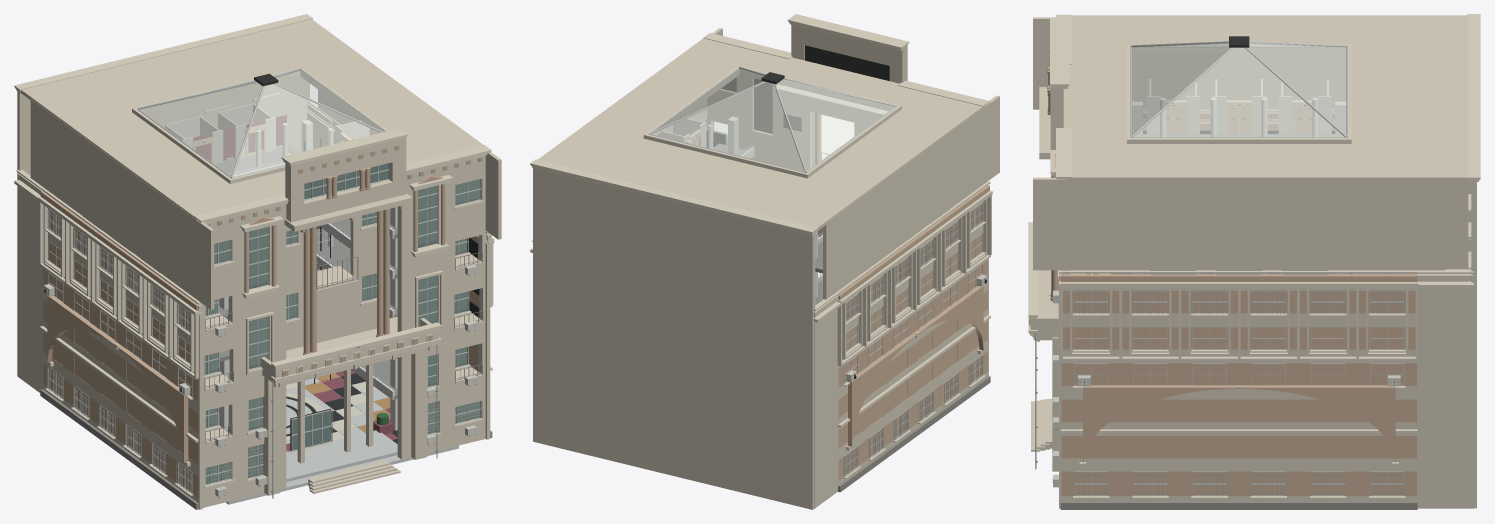
The model's file is leftside.glb.
The picture shows the model from 3 angles, left to right: view 1: azimuth 30°, elevation 25°; view 2: azimuth 150°, elevation 25°; view 3: azimuth 270°, elevation 25°; orthographic projection. The views are drawn at different scales.
Parts seen in each view (by area): view 1: Left_Flank_clerestory, Main_roof_rear, Skylight_glazing_shell, Left_Flank_main_wall, Main_roof_left, Main_roof_right, Exterior_rear_facade_wall, Left_Flank_ret_rear, Main_roof_front, Left_Flank_Large_Arch, Entrance_vestibule_floor, Rear_roof_cornice.002 (+57 smaller); view 2: Exterior_rear_facade_wall, Main_roof_rear, Left_Flank_clerestory, Skylight_glazing_shell, Left_Flank_main_wall, Main_roof_front, Main_roof_left, Main_roof_right, Left_Flank_ret_rear, Left_Flank_Large_Arch, Rear_roof_cornice.002, Central_upper_block_sec_1_2 (+23 smaller); view 3: Right_Flank_clerestory, Right_Flank_main_wall, Main_roof_rear, Skylight_glazing_shell, Right_Flank_ret_rear, Left_Flank_clerestory, Main_roof_front, Main_roof_right, Main_roof_left, Right_Flank_Large_Arch, Right_Flank_plinth, Right_Flank_spandrel_lo_F1 (+47 smaller).
Part boxes in pixels (<box>): Left_Flank_clerestory: <box>30,99,214,309</box>; Main_roof_rear: <box>20,19,363,129</box>; Skylight_glazing_shell: <box>139,70,384,176</box>; Left_Flank_main_wall: <box>49,210,192,492</box>; Main_roof_left: <box>74,114,227,198</box>; Main_roof_right: <box>301,57,457,139</box>; Exterior_rear_facade_wall: <box>17,77,309,376</box>; Left_Flank_ret_rear: <box>18,187,43,392</box>; Main_roof_front: <box>168,126,483,219</box>; Left_Flank_Large_Arch: <box>47,295,188,462</box>; Entrance_vestibule_floor: <box>286,430,397,481</box>; Rear_roof_cornice.002: <box>14,14,312,90</box>; Exterior_rear_facade_wall: <box>533,168,815,509</box>; Main_roof_rear: <box>538,123,867,232</box>; Left_Flank_clerestory: <box>823,95,999,299</box>; Skylight_glazing_shell: <box>651,68,894,171</box>; Left_Flank_main_wall: <box>843,204,981,475</box>; Main_roof_front: <box>679,38,985,125</box>; Main_roof_left: <box>809,110,958,192</box>; Main_roof_right: <box>588,56,739,136</box>; Left_Flank_ret_rear: <box>814,308,838,508</box>; Left_Flank_Large_Arch: <box>848,285,983,446</box>; Rear_roof_cornice.002: <box>530,159,817,233</box>; Central_upper_block_sec_1_2: <box>804,28,889,65</box>; Right_Flank_clerestory: <box>1033,177,1445,270</box>; Right_Flank_main_wall: <box>1074,291,1403,495</box>; Main_roof_rear: <box>1347,15,1471,181</box>; Skylight_glazing_shell: <box>1132,42,1346,136</box>; Right_Flank_ret_rear: <box>1417,288,1473,508</box>; Left_Flank_clerestory: <box>1033,17,1345,109</box>; Main_roof_front: <box>1066,15,1131,179</box>; Main_roof_right: <box>1131,144,1346,179</box>; Main_roof_left: <box>1131,15,1346,54</box>; Right_Flank_Large_Arch: <box>1083,385,1395,463</box>; Right_Flank_plinth: <box>1060,501,1417,509</box>; Right_Flank_spandrel_lo_F1: <box>1061,458,1416,465</box>.
Size of what is drawn, in the model's own units: 32.14 by 33.93 by 35.66.
